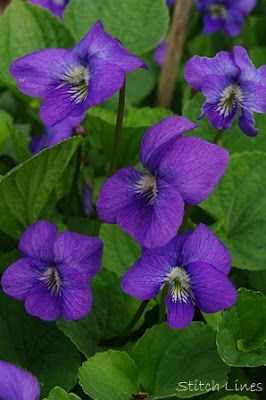violet: (103, 112, 237, 249), (11, 19, 138, 124), (123, 231, 242, 332), (5, 220, 111, 321), (176, 37, 266, 134)
